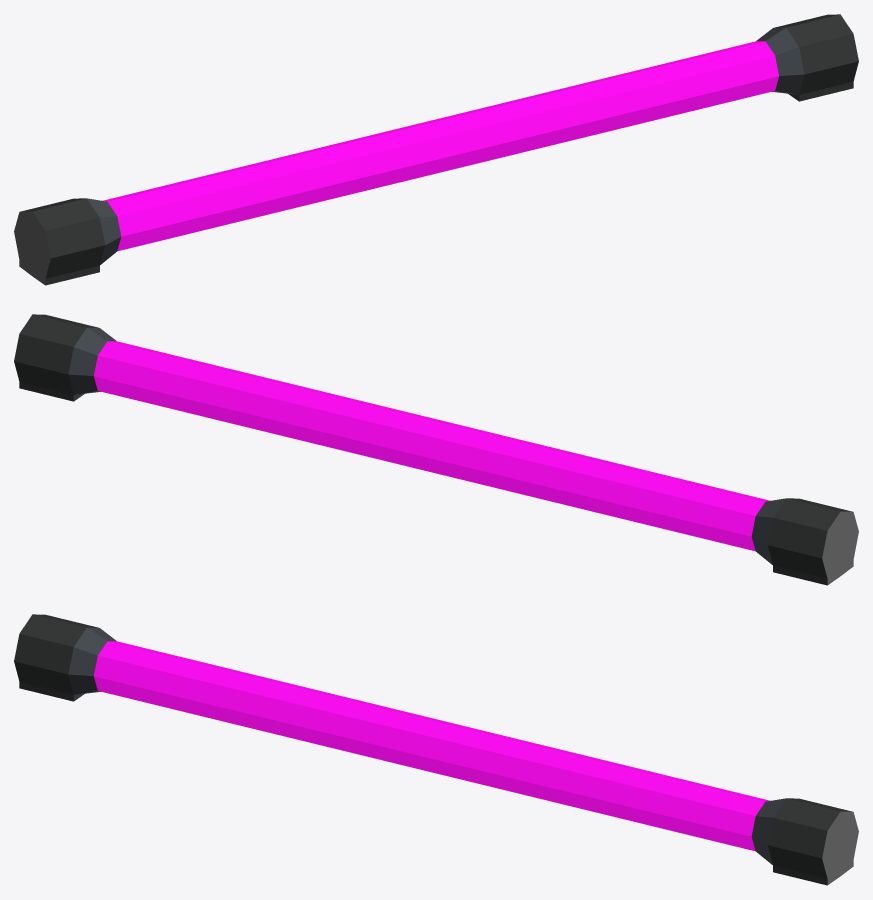
Rendered from NeonLightTube_03.glb.
3 renders of one model, top to bottom at view 1: azimuth 30°, elevation 25°; view 2: azimuth 150°, elevation 25°; view 3: azimuth 330°, elevation 25°, orthographic.
Parts seen in each view (by area): view 1: NeonLightTube_03; view 2: NeonLightTube_03; view 3: NeonLightTube_03.
Part boxes in pixels (<box>): NeonLightTube_03: <box>14,14,858,285</box>; NeonLightTube_03: <box>14,314,858,585</box>; NeonLightTube_03: <box>14,614,858,885</box>.
Size of what is drawn, in the model's own units: 1.71 by 0.1314 by 0.1354.
Materials: 2 (2 with a texture image).
